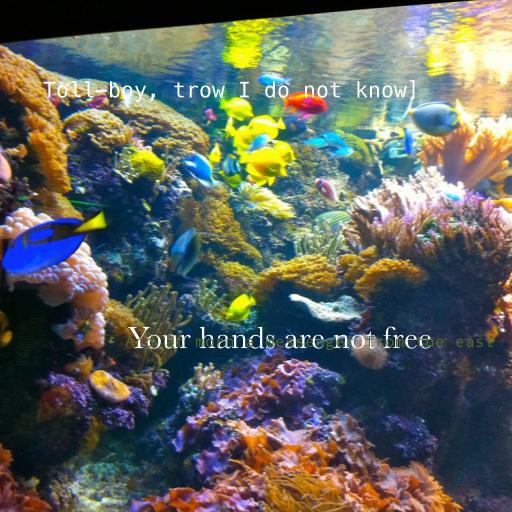Andale Mono: (125, 335, 495, 351)
Baskerville: (128, 326, 432, 349)
Menlo: (42, 80, 420, 102)
